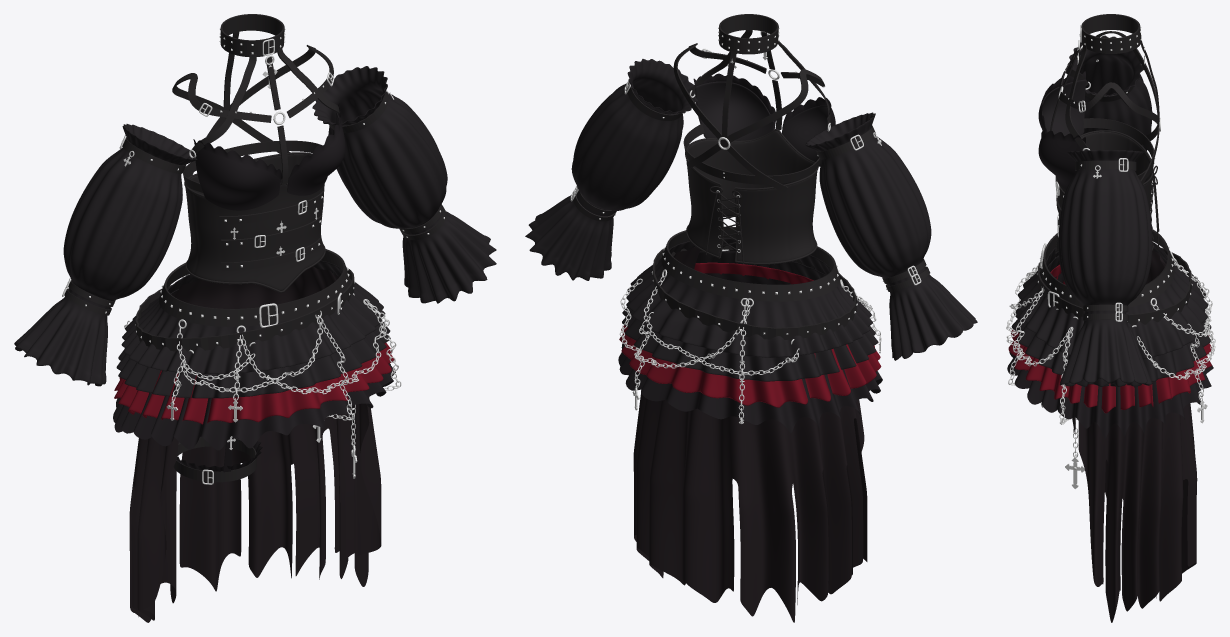
File: gothic_outfit.fbx
3 renders of one model, left to right at view 1: azimuth 30°, elevation 25°; view 2: azimuth 150°, elevation 25°; view 3: azimuth 270°, elevation 25°, orthographic. The views are drawn at different scales.
Parts seen in each view (by area): view 1: Skirt_Overskirt_Tattered, Top_Sleeve_R, Top_Sleeve_L, Skirt_Ruffle_1, Top_Corset, Top_Harness, Skirt_Belts, Top_Bra_Lace, Skirt_Ruffle_2, Skirt_Ruffle_3_Red, Skirt_Ruffle_4_Lace, Skirt_Hardware (+4 smaller); view 2: Skirt_Overskirt_Tattered, Top_Sleeve_R, Top_Sleeve_L, Skirt_Ruffle_1, Top_Corset, Top_Harness, Skirt_Ruffle_3_Red, Skirt_Ruffle_2, Skirt_Belts, Skirt_Ruffle_4_Lace, Top_Bra_Cups, Skirt_Hardware (+4 smaller); view 3: Skirt_Overskirt_Tattered, Top_Sleeve_L, Skirt_Ruffle_1, Top_Harness, Skirt_Ruffle_4_Lace, Top_Sleeve_R, Skirt_Ruffle_3_Red, Skirt_Hardware, Skirt_Belts, Skirt_Ruffle_2, Top_Bra_Lace, Top_Bra_Cups (+4 smaller).
Part boxes in pixels (x1,y1,x2,y2): Skirt_Overskirt_Tattered: [129, 266, 381, 622]; Top_Sleeve_R: [14, 124, 197, 386]; Top_Sleeve_L: [312, 66, 496, 303]; Skirt_Ruffle_1: [121, 260, 385, 374]; Top_Corset: [185, 154, 324, 290]; Top_Harness: [172, 14, 339, 192]; Skirt_Belts: [135, 249, 354, 351]; Top_Bra_Lace: [193, 103, 345, 210]; Skirt_Ruffle_2: [116, 289, 390, 398]; Skirt_Ruffle_3_Red: [114, 343, 394, 424]; Skirt_Ruffle_4_Lace: [113, 363, 395, 450]; Skirt_Hardware: [124, 263, 401, 484]; Skirt_Overskirt_Tattered: [633, 247, 867, 622]; Top_Sleeve_R: [805, 112, 977, 360]; Top_Sleeve_L: [525, 59, 697, 280]; Skirt_Ruffle_1: [626, 238, 872, 357]; Top_Corset: [686, 131, 817, 262]; Top_Harness: [673, 14, 830, 192]; Skirt_Ruffle_3_Red: [619, 262, 881, 407]; Skirt_Ruffle_2: [622, 251, 878, 381]; Skirt_Belts: [652, 226, 857, 339]; Skirt_Ruffle_4_Lace: [618, 273, 882, 432]; Top_Bra_Cups: [695, 81, 830, 165]; Skirt_Hardware: [619, 244, 881, 423]; Skirt_Overskirt_Tattered: [1072, 251, 1197, 622]; Top_Sleeve_L: [1058, 150, 1152, 386]; Skirt_Ruffle_1: [1017, 242, 1208, 359]; Top_Harness: [1050, 14, 1159, 184]; Skirt_Ruffle_4_Lace: [1007, 273, 1213, 438]; Top_Sleeve_R: [1067, 35, 1152, 150]; Skirt_Ruffle_3_Red: [1008, 264, 1211, 413]; Skirt_Hardware: [1006, 243, 1215, 488]; Skirt_Belts: [1037, 229, 1191, 325]; Skirt_Ruffle_2: [1011, 254, 1211, 386]; Top_Bra_Lace: [1038, 71, 1085, 189]; Top_Bra_Cups: [1042, 79, 1085, 136].
Bounding box in the file's own units: 1.02 × 1.24 × 0.4281.
